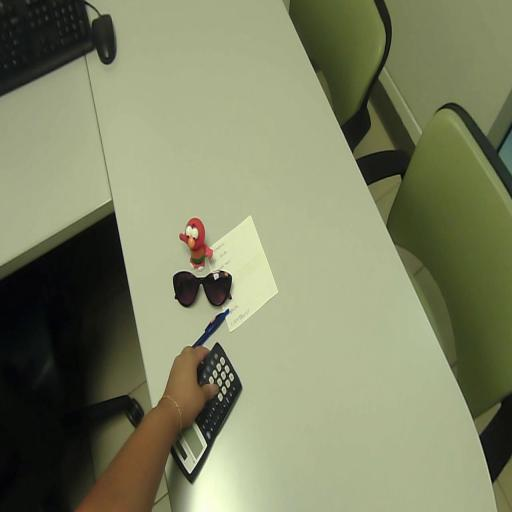pen: (193, 309, 229, 347)
